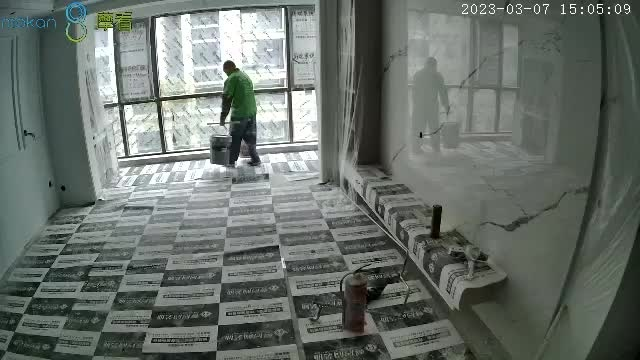people: (218, 60, 260, 167)
window: (94, 4, 321, 158)
